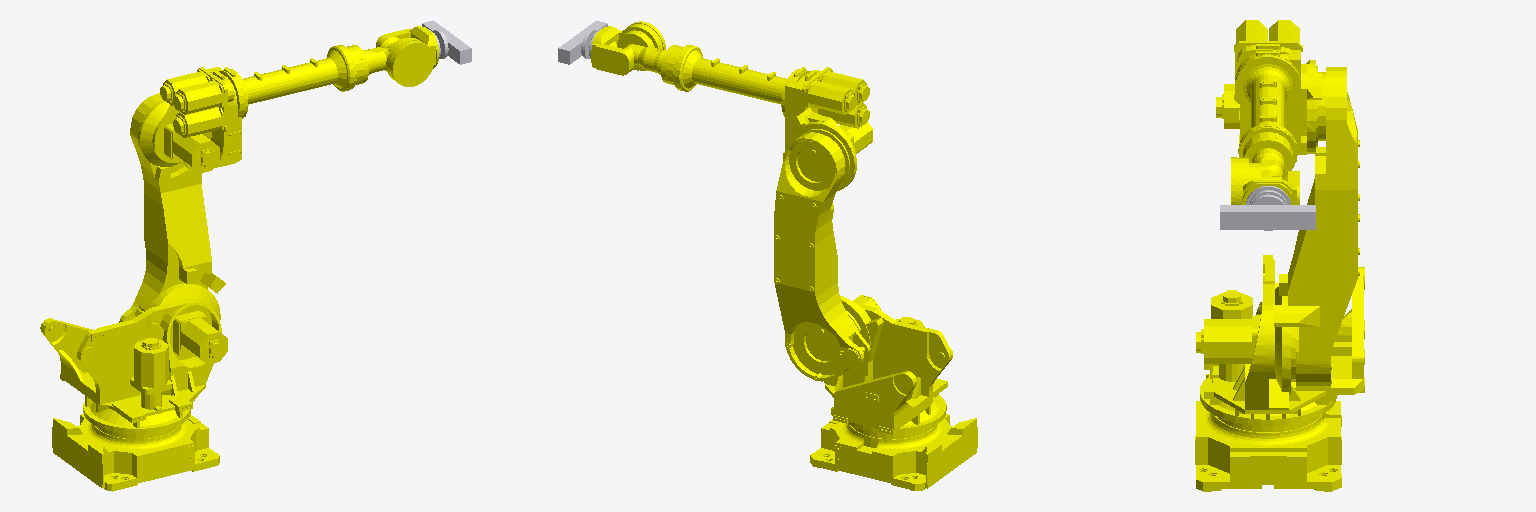
The robot description file, URDF, robot "ROBOT_A":
<?xml version="1.0" encoding="utf-8"?>
<!-- This URDF was automatically created by SolidWorks to URDF Exporter! Originally created by Stephen Brawner (brawner@gmail.com) 
     Commit Version: 1.6.0-4-g7f85cfe  Build Version: 1.6.7995.38578
     For more information, please see http://wiki.ros.org/sw_urdf_exporter -->
<robot
  name="ROBOT_A">
  <link
    name="base_link">
    <inertial>
      <origin
        xyz="-0.0146393341017591 -0.000419212451698483 0.115555454618055"
        rpy="0 0 0" />
      <mass
        value="202.853322018898" />
      <inertia
        ixx="5.60125203673304"
        ixy="0.000941907037428949"
        ixz="-0.0037915131981156"
        iyy="7.40112051271875"
        iyz="0.00456121863868735"
        izz="11.0060459393813" />
    </inertial>
    <visual>
      <origin
        xyz="0 0 0"
        rpy="0 0 0" />
      <geometry>
        <mesh
          filename="package://R_2000iB210F_1_23_25_E/meshes/base_link.STL" />
      </geometry>
      <material
        name="">
        <color
          rgba="1 1 0 1" />
      </material>
    </visual>
    <collision>
      <origin
        xyz="0 0 0"
        rpy="0 0 0" />
      <geometry>
        <mesh
          filename="package://R_2000iB210F_1_23_25_E/meshes/base_link.STL" />
      </geometry>
    </collision>
  </link>
  <link
    name="Link_1">
    <inertial>
      <origin
        xyz="0.103371820397563 0.021279197766461 0.235245555981107"
        rpy="0 0 0" />
      <mass
        value="203.555038066042" />
      <inertia
        ixx="9.89862476155775"
        ixy="1.25058342800461"
        ixz="-2.33292104695161"
        iyy="13.0353746261127"
        iyz="0.494326943471537"
        izz="12.3936346241818" />
    </inertial>
    <visual>
      <origin
        xyz="0 0 0"
        rpy="0 0 0" />
      <geometry>
        <mesh
          filename="package://R_2000iB210F_1_23_25_E/meshes/Link_1.STL" />
      </geometry>
      <material
        name="">
        <color
          rgba="1 1 0 1" />
      </material>
    </visual>
    <collision>
      <origin
        xyz="0 0 0"
        rpy="0 0 0" />
      <geometry>
        <mesh
          filename="package://R_2000iB210F_1_23_25_E/meshes/Link_1.STL" />
      </geometry>
    </collision>
  </link>
  <joint
    name="Joint_1"
    type="revolute">
    <origin
      xyz="0 0 0.269"
      rpy="0 0 0" />
    <parent
      link="base_link" />
    <child
      link="Link_1" />
    <axis
      xyz="0 0 1" />
    <limit
      lower="-68.28"
      upper="68.28"
      effort="0"
      velocity="0" />
  </joint>
  <link
    name="Link_2">
    <inertial>
      <origin
        xyz="0.0471878383192885 0.12089751448808 0.454912469790166"
        rpy="0 0 0" />
      <mass
        value="164.567517458322" />
      <inertia
        ixx="20.4431061482859"
        ixy="-0.0490978211341203"
        ixz="-0.430027049037389"
        iyy="21.0022802657383"
        iyz="-2.17909592412777"
        izz="2.20067222059181" />
    </inertial>
    <visual>
      <origin
        xyz="0 0 0"
        rpy="0 0 0" />
      <geometry>
        <mesh
          filename="package://R_2000iB210F_1_23_25_E/meshes/Link_2.STL" />
      </geometry>
      <material
        name="">
        <color
          rgba="1 1 0 1" />
      </material>
    </visual>
    <collision>
      <origin
        xyz="0 0 0"
        rpy="0 0 0" />
      <geometry>
        <mesh
          filename="package://R_2000iB210F_1_23_25_E/meshes/Link_2.STL" />
      </geometry>
    </collision>
  </link>
  <joint
    name="Joint_2"
    type="revolute">
    <origin
      xyz="0.312 0.117 0.401"
      rpy="0 0 0" />
    <parent
      link="Link_1" />
    <child
      link="Link_2" />
    <axis
      xyz="0 1 0" />
    <limit
      lower="-1.117"
      upper="1.396"
      effort="0"
      velocity="0" />
  </joint>
  <link
    name="Link_3">
    <inertial>
      <origin
        xyz="0.21929616708661 -0.206716349630787 0.122380665168433"
        rpy="0 0 0" />
      <mass
        value="169.892327040013" />
      <inertia
        ixx="4.67810117525269"
        ixy="1.01232848720455"
        ixz="-2.77240184099465"
        iyy="17.9781372376985"
        iyz="0.664055030801168"
        izz="16.4407546819284" />
    </inertial>
    <visual>
      <origin
        xyz="0 0 0"
        rpy="0 0 0" />
      <geometry>
        <mesh
          filename="package://R_2000iB210F_1_23_25_E/meshes/Link_3.STL" />
      </geometry>
      <material
        name="">
        <color
          rgba="1 1 0 1" />
      </material>
    </visual>
    <collision>
      <origin
        xyz="0 0 0"
        rpy="0 0 0" />
      <geometry>
        <mesh
          filename="package://R_2000iB210F_1_23_25_E/meshes/Link_3.STL" />
      </geometry>
    </collision>
  </link>
  <joint
    name="Joint_3"
    type="revolute">
    <origin
      xyz="0 0.1215 1.075"
      rpy="0 0 0" />
    <parent
      link="Link_2" />
    <child
      link="Link_3" />
    <axis
      xyz="0 1 0" />
    <limit
      lower="-2.81"
      upper="1.4486"
      effort="0"
      velocity="0" />
  </joint>
  <link
    name="Link_4">
    <inertial>
      <origin
        xyz="0.147885727827784 -0.00823139058916035 4.76748174271791E-09"
        rpy="0 0 0" />
      <mass
        value="13.4501146699772" />
      <inertia
        ixx="0.0425773651247398"
        ixy="0.0142951134818812"
        ixz="-9.1874577865385E-10"
        iyy="0.175848523907448"
        iyz="2.83153587106086E-09"
        izz="0.173771531295923" />
    </inertial>
    <visual>
      <origin
        xyz="0 0 0"
        rpy="0 0 0" />
      <geometry>
        <mesh
          filename="package://R_2000iB210F_1_23_25_E/meshes/Link_4.STL" />
      </geometry>
      <material
        name="">
        <color
          rgba="1 1 0 1" />
      </material>
    </visual>
    <collision>
      <origin
        xyz="0 0 0"
        rpy="0 0 0" />
      <geometry>
        <mesh
          filename="package://R_2000iB210F_1_23_25_E/meshes/Link_4.STL" />
      </geometry>
    </collision>
  </link>
  <joint
    name="Joint_4"
    type="revolute">
    <origin
      xyz="1.005 -0.2385 0.225"
      rpy="0 0 0" />
    <parent
      link="Link_3" />
    <child
      link="Link_4" />
    <axis
      xyz="1 0 0" />
    <limit
      lower="-62.82"
      upper="62.82"
      effort="0"
      velocity="0" />
  </joint>
  <link
    name="Link_5">
    <inertial>
      <origin
        xyz="0.0494866815952584 -0.0377541749649308 2.28413510328096E-10"
        rpy="0 0 0" />
      <mass
        value="23.3368804002773" />
      <inertia
        ixx="0.248814472761214"
        ixy="-0.0608320403078725"
        ixz="-2.97015119779834E-10"
        iyy="0.222927908462658"
        iyz="-1.42535673952284E-09"
        izz="0.338441995033353" />
    </inertial>
    <visual>
      <origin
        xyz="0 0 0"
        rpy="0 0 0" />
      <geometry>
        <mesh
          filename="package://R_2000iB210F_1_23_25_E/meshes/Link_5.STL" />
      </geometry>
      <material
        name="">
        <color
          rgba="1 1 0 1" />
      </material>
    </visual>
    <collision>
      <origin
        xyz="0 0 0"
        rpy="0 0 0" />
      <geometry>
        <mesh
          filename="package://R_2000iB210F_1_23_25_E/meshes/Link_5.STL" />
      </geometry>
    </collision>
  </link>
  <joint
    name="Joint_5"
    type="revolute">
    <origin
      xyz="0.274 0.001 0"
      rpy="0 0 0" />
    <parent
      link="Link_4" />
    <child
      link="Link_5" />
    <axis
      xyz="0 1 0" />
    <limit
      lower="-1.5708"
      upper="1.5708"
      effort="0"
      velocity="0" />
  </joint>
  <link
    name="Link_6">
    <inertial>
      <origin
        xyz="0.0242258287149395 7.99707522425308E-16 1.11022302462516E-15"
        rpy="0 0 0" />
      <mass
        value="3.58895653489846" />
      <inertia
        ixx="0.0155155992768669"
        ixy="4.22392245783953E-18"
        ixz="9.18452700952637E-19"
        iyy="0.00851542250997204"
        iyz="3.79151484787824E-06"
        izz="0.0085160395832964" />
    </inertial>
    <visual>
      <origin
        xyz="0 0 0"
        rpy="0 0 0" />
      <geometry>
        <mesh
          filename="package://R_2000iB210F_1_23_25_E/meshes/Link_6.STL" />
      </geometry>
      <material
        name="">
        <color
          rgba="0.866666666666667 0.866666666666667 0.890196078431372 1" />
      </material>
    </visual>
    <collision>
      <origin
        xyz="0 0 0"
        rpy="0 0 0" />
      <geometry>
        <mesh
          filename="package://R_2000iB210F_1_23_25_E/meshes/Link_6.STL" />
      </geometry>
    </collision>
  </link>
  <joint
    name="Joint_6"
    type="revolute">
    <origin
      xyz="0.181 0 0"
      rpy="0 0 0" />
    <parent
      link="Link_5" />
    <child
      link="Link_6" />
    <axis
      xyz="1 0 0" />
    <limit
      lower="-6.282"
      upper="6.282"
      effort="0"
      velocity="0" />
  </joint>
  <link
    name="end_effector">
    <inertial>
      <origin
        xyz="-0.0417040714838059 6.06353136387596E-16 0"
        rpy="0 0 0" />
      <mass
        value="7.1067607065569" />
      <inertia
        ixx="0.0871694627848106"
        ixy="2.00480183082589E-17"
        ixz="4.56870125567332E-18"
        iyy="0.00920700351098994"
        iyz="-1.97541226009115E-18"
        izz="0.0866214035109898" />
    </inertial>
    <visual>
      <origin
        xyz="0 0 0"
        rpy="0 0 0" />
      <geometry>
        <mesh
          filename="package://R_2000iB210F_1_23_25_E/meshes/end_effector.STL" />
      </geometry>
      <material
        name="">
        <color
          rgba="0.866666666666667 0.866666666666667 0.890196078431372 1" />
      </material>
    </visual>
    <collision>
      <origin
        xyz="0 0 0"
        rpy="0 0 0" />
      <geometry>
        <mesh
          filename="package://R_2000iB210F_1_23_25_E/meshes/end_effector.STL" />
      </geometry>
    </collision>
  </link>
  <joint
    name="Joint_7"
    type="fixed">
    <origin
      xyz="0.144 -0.001 0"
      rpy="0 0 0" />
    <parent
      link="Link_6" />
    <child
      link="end_effector" />
    <!--axis
      xyz="0 0 0" /-->
  </joint>
</robot>

--- Render facts (derived) ---
The picture shows the robot from 3 angles, left to right: view 1: azimuth 30°, elevation 25°; view 2: azimuth 150°, elevation 25°; view 3: azimuth 270°, elevation 25°; orthographic projection.
Robot: ROBOT_A — 8 links, 7 joints (6 revolute, 1 fixed); root link base_link; default pose: every joint at zero.
Visible links, largest first — view 1: Link_1, Link_3, Link_2, base_link, Link_5, end_effector, Link_4; view 2: Link_2, Link_1, Link_3, base_link, Link_5, Link_4, end_effector; view 3: Link_1, Link_2, Link_3, base_link, end_effector, Link_5, Link_4.
Link boxes in pixels (x1,y1,x2,y2): Link_1: (40, 283, 227, 433); Link_3: (138, 45, 363, 173); Link_2: (119, 93, 225, 322); base_link: (52, 414, 219, 491); Link_5: (376, 26, 438, 86); end_effector: (422, 20, 471, 64); Link_4: (348, 38, 406, 84); Link_2: (774, 132, 870, 381); Link_1: (824, 295, 952, 434); Link_3: (666, 45, 872, 190); base_link: (810, 414, 977, 490); Link_5: (591, 21, 665, 75); Link_4: (617, 32, 677, 84); end_effector: (558, 21, 607, 64); Link_1: (1196, 255, 1364, 425); Link_2: (1274, 67, 1359, 387); Link_3: (1216, 20, 1325, 168); base_link: (1195, 374, 1341, 491); end_effector: (1220, 194, 1315, 230); Link_5: (1231, 157, 1299, 204); Link_4: (1243, 137, 1292, 179).
Bounding box of the posed robot: 2.28 × 0.708 × 2.11 m (x, y, z).
8 mesh visuals loaded from 8 distinct referenced files (6 binary STL, 2 ASCII STL).
